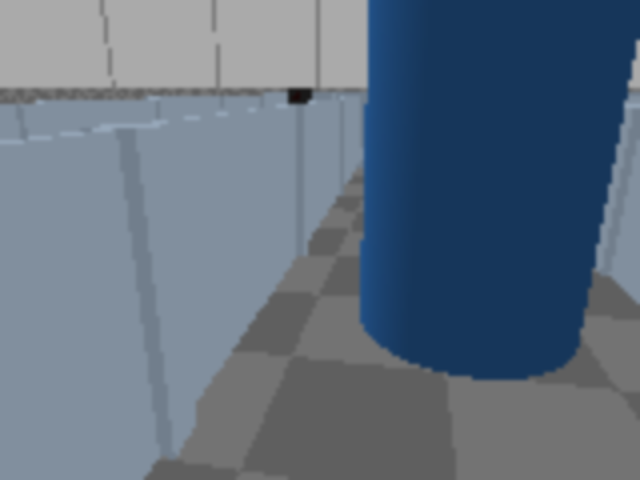person: (360, 0, 638, 378)
